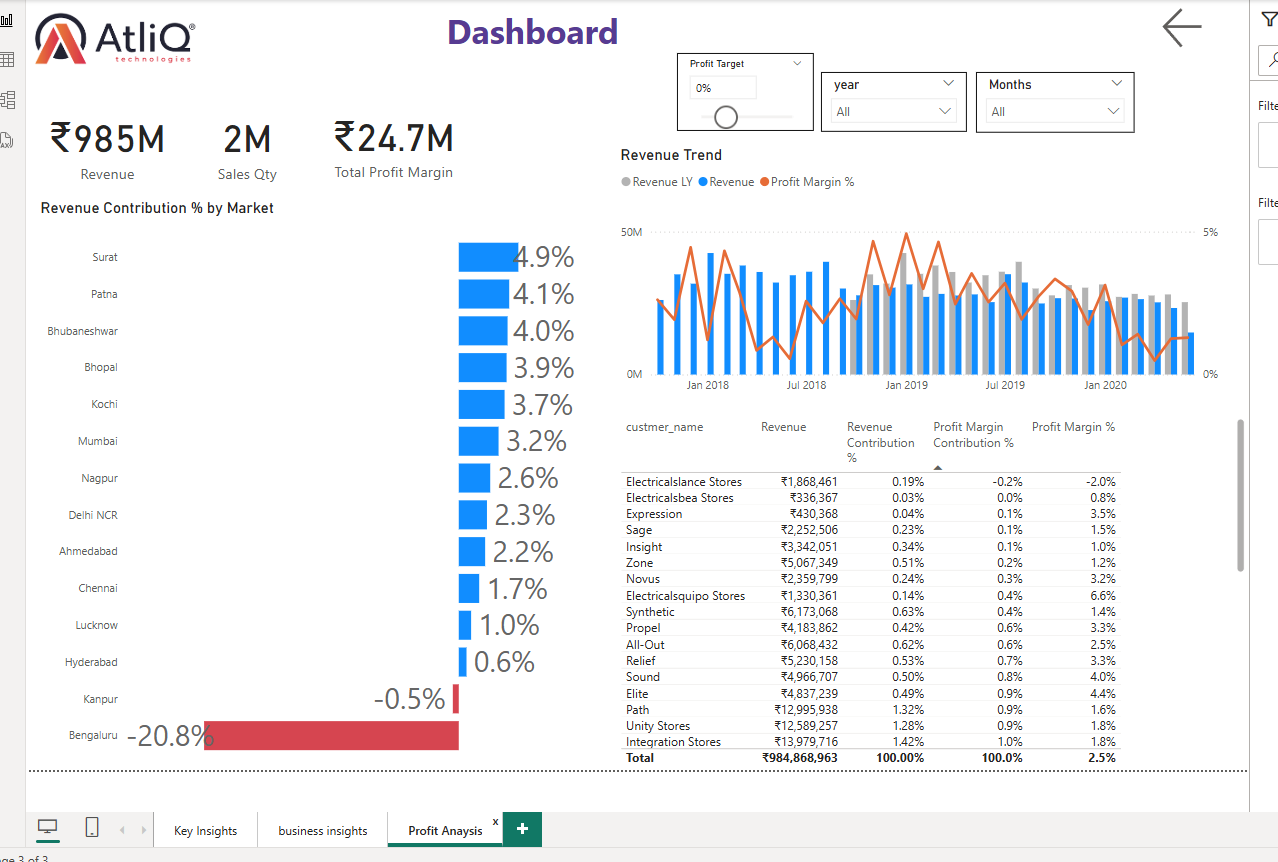

The page's visual inventory and layout, read from the dashboard file:
{"tool":"powerbi","page":{"name":"Profit Anaysis","canvas":[1350,850],"ordinal":2},"visuals":[{"type":"card","fields":{"Values":["BaseMeasures (2).Revenue"]},"box":[0,99.4,179.7,120.5],"z":0},{"type":"card","fields":{"Values":["BaseMeasures (2).Sales Qty"]},"box":[161.8,97.3,163.9,123.7],"z":1000},{"type":"slicer","fields":{"Values":["sales date.year"]},"box":[877.5,79.3,160.7,65.5],"z":2000},{"type":"slicer","fields":{"Values":["sales date.cy_date"]},"box":[1048.8,79.3,175.5,66.6],"z":3000},{"type":"tableEx","title":"Top 5 Customers","fields":{"Values":["sales customers.custmer_name","BaseMeasures (2).Revenue","BaseMeasures (2).Revenue Contribution %","BaseMeasures (2).Profit Margin Contribution %","BaseMeasures (2).Profit Margin %"]},"box":[651.4,457.3,698.8,392.3],"z":4000},{"type":"lineClusteredColumnComboChart","title":"Revenue Trend","fields":{"Category":["sales date.cy_date"],"Y":["BaseMeasures (2).Revenue LY","BaseMeasures (2).Revenue"],"Y2":["BaseMeasures (2).Profit Margin %"]},"box":[651.4,161,672,281.8],"z":5000},{"type":"card","fields":{"Values":["BaseMeasures (2).Total Profit Margin"]},"box":[325.6,92,160.7,132.2],"z":6000},{"type":"barChart","title":"Revenue Contribution % by Market","fields":{"Y":["BaseMeasures (2).Profit Margin %"],"Category":["sales markets.markets_name"]},"box":[11,219.7,599.4,630.3],"z":7000},{"type":"slicer","fields":{"Values":["Profit Target.Profit Target"]},"box":[718.6,58.5,151.2,86.1],"z":8000},{"type":"textbox","box":[458.8,3.2,215.7,98.3],"z":9000},{"type":"image","box":[0,0,196.6,84.6],"z":10000},{"type":"actionButton","box":[1249.6,3.2,100.4,55],"z":11000}]}

Visuals, with their boxes on the page's 1350x850 design canvas (x1, y1, x2, y2). These are canvas units, not pixel positions in the 1278x862 screenshot, which may show the page scaled, cropped or inside an application window:
card - BaseMeasures (2).Revenue: 0:99:180:220
card - BaseMeasures (2).Sales Qty: 162:97:326:221
slicer - sales date.year: 878:79:1038:145
slicer - sales date.cy_date: 1049:79:1224:146
"Top 5 Customers" tableEx: 651:457:1350:850
"Revenue Trend" lineClusteredColumnComboChart: 651:161:1323:443
card - BaseMeasures (2).Total Profit Margin: 326:92:486:224
"Revenue Contribution % by Market" barChart: 11:220:610:850
slicer - Profit Target.Profit Target: 719:58:870:145
textbox: 459:3:674:102
image: 0:0:197:85
actionButton: 1250:3:1350:58
